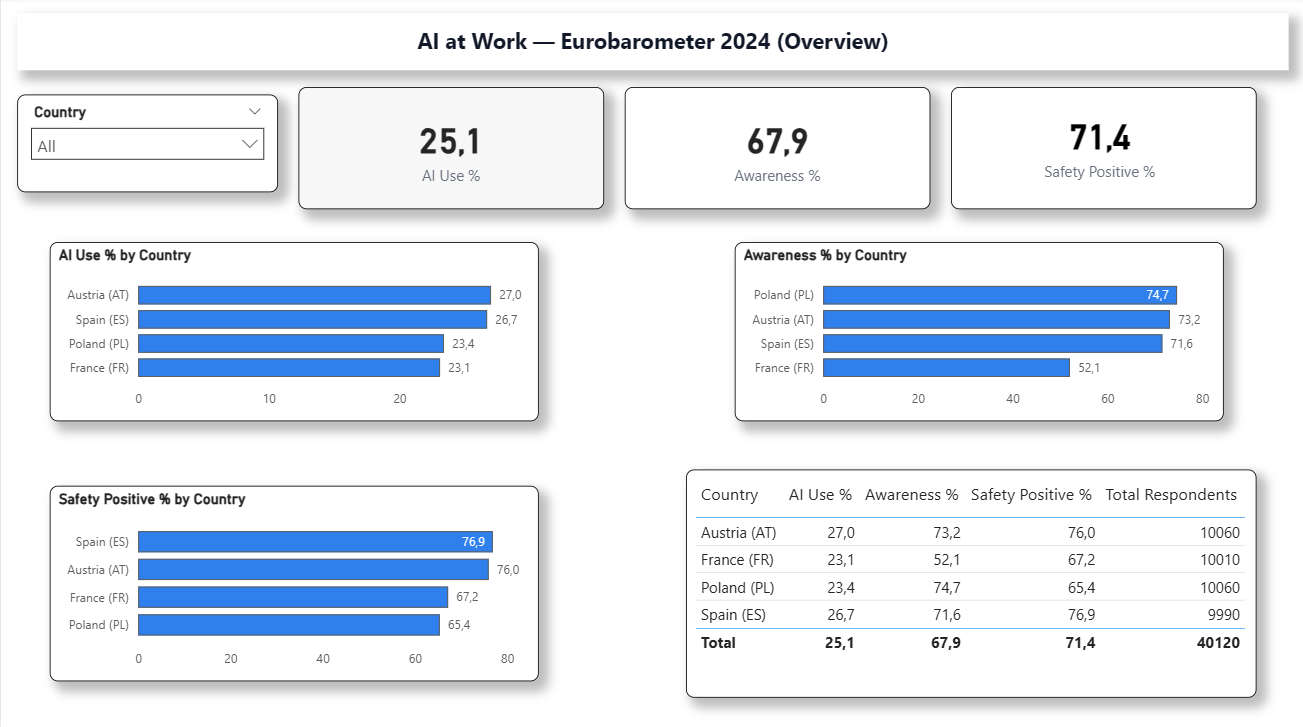

The page's visual inventory and layout, read from the dashboard file:
{"tool":"powerbi","page":{"name":"Page 1","canvas":[1280,720],"ordinal":0},"visuals":[{"type":"textbox","box":[16,16,1248,56],"z":0},{"type":"slicer","fields":{"Values":["highlights csv.Country"]},"box":[16,96,256,96],"z":1000},{"type":"card","fields":{"Values":["highlights csv.AI Use %"]},"box":[292,88,300,120],"z":2000},{"type":"card","fields":{"Values":["highlights csv.Awareness %"]},"box":[612,88,300,120],"z":3000},{"type":"card","fields":{"Values":["highlights csv.Safety Positive %"]},"box":[932,88,300,120],"z":4000},{"type":"clusteredBarChart","fields":{"Category":["highlights csv.Country"],"Y":["highlights csv.AI Use %"]},"box":[48,240,480,176],"z":5000},{"type":"clusteredBarChart","fields":{"Category":["highlights csv.Country"],"Y":["highlights csv.Awareness %"]},"box":[720,240,480,176],"z":6000},{"type":"clusteredBarChart","fields":{"Category":["highlights csv.Country"],"Y":["highlights csv.Safety Positive %"]},"box":[48,480,480,192],"z":7000},{"type":"tableEx","fields":{"Values":["highlights csv.Country","highlights csv.AI Use %","highlights csv.Awareness %","highlights csv.Safety Positive %","highlights csv.Total Respondents"]},"box":[672,464,560,224],"z":8000}]}

Visuals, with their boxes in screenshot pixels (x1, y1, x2, y2), scaled from the page's 1280x720 canvas onto the 1303x727 screenshot:
textbox: locate(16, 16, 1287, 73)
slicer - highlights csv.Country: locate(16, 97, 277, 194)
card - highlights csv.AI Use %: locate(297, 89, 603, 210)
card - highlights csv.Awareness %: locate(623, 89, 928, 210)
card - highlights csv.Safety Positive %: locate(949, 89, 1254, 210)
clusteredBarChart - highlights csv.Country x highlights csv.AI Use %: locate(49, 242, 537, 420)
clusteredBarChart - highlights csv.Country x highlights csv.Awareness %: locate(733, 242, 1222, 420)
clusteredBarChart - highlights csv.Country x highlights csv.Safety Positive %: locate(49, 485, 537, 679)
tableEx - highlights csv.Country x highlights csv.AI Use %: locate(684, 469, 1254, 695)
